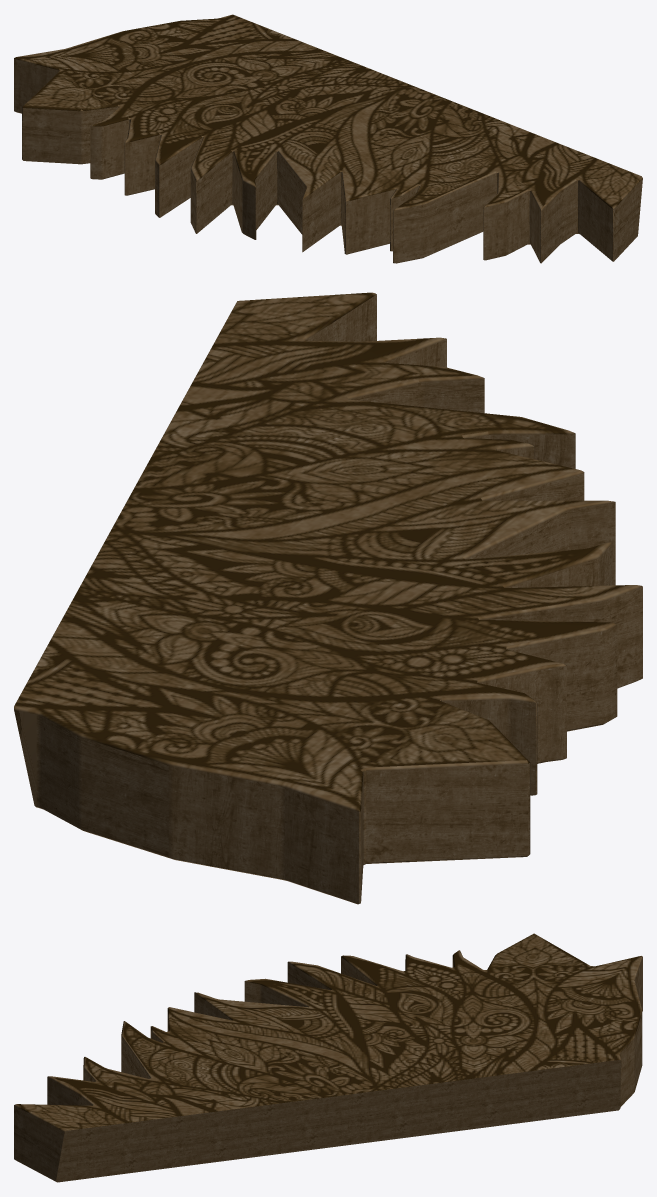
File: mdl_brush_lionpiece3.gltf
3 views of the same model, one above another, from view 1: azimuth 30°, elevation 25°; view 2: azimuth 150°, elevation 25°; view 3: azimuth 270°, elevation 25° (orthographic). The views are drawn at different scales.
Parts seen in each view (by area): view 1: Piece 3; view 2: Piece 3; view 3: Piece 3.
Boxes of the visible parts, left/top/right/bottom form: Piece 3: left=14, top=14, right=642, bottom=263; Piece 3: left=14, top=292, right=642, bottom=904; Piece 3: left=14, top=933, right=642, bottom=1182.
Bounding box in the file's own units: 1.32 × 0.1766 × 1.77.
Materials: 2 (2 with a texture image).
